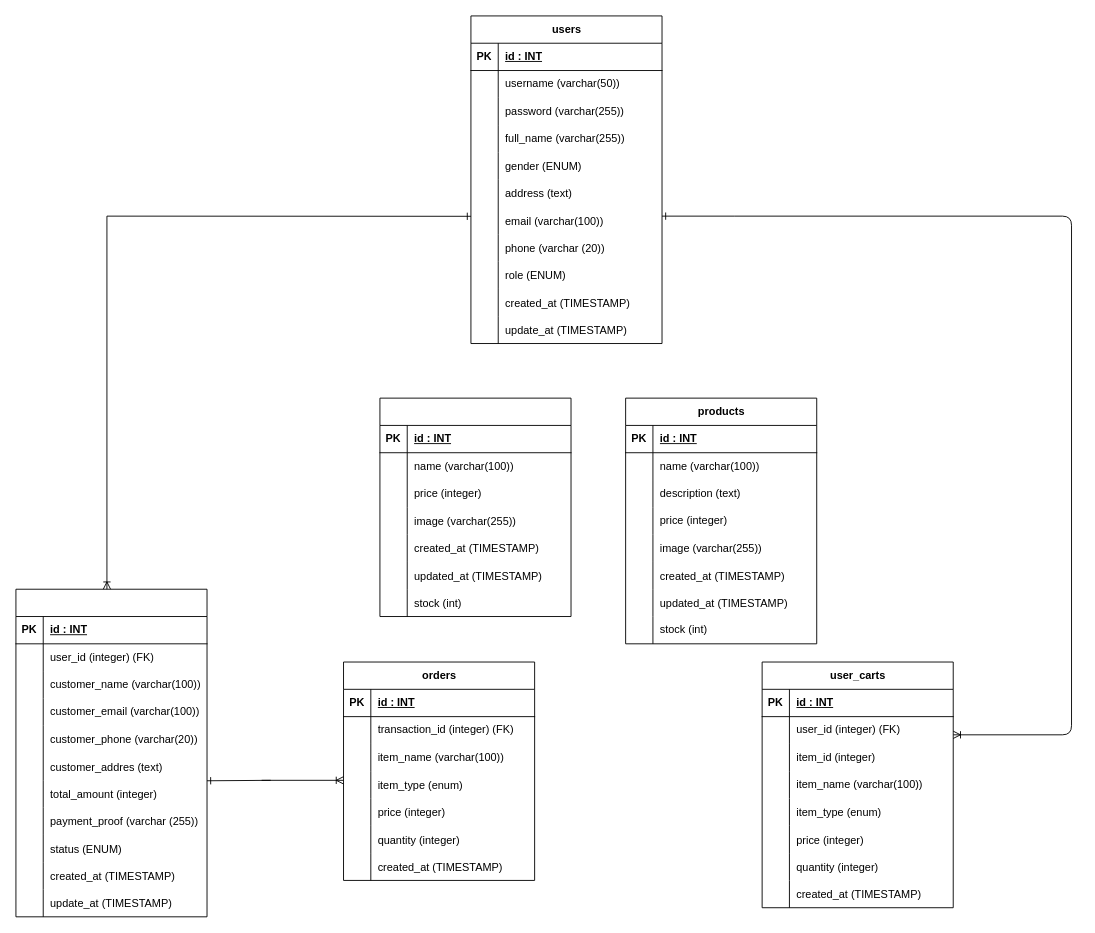
This 1095x933 diagram has some shape labels left out. The box of each missing label's shape, as (x1, y1, x2, y2) in pixels:
menukami: (379, 397, 571, 617)
transactions: (15, 588, 207, 917)
